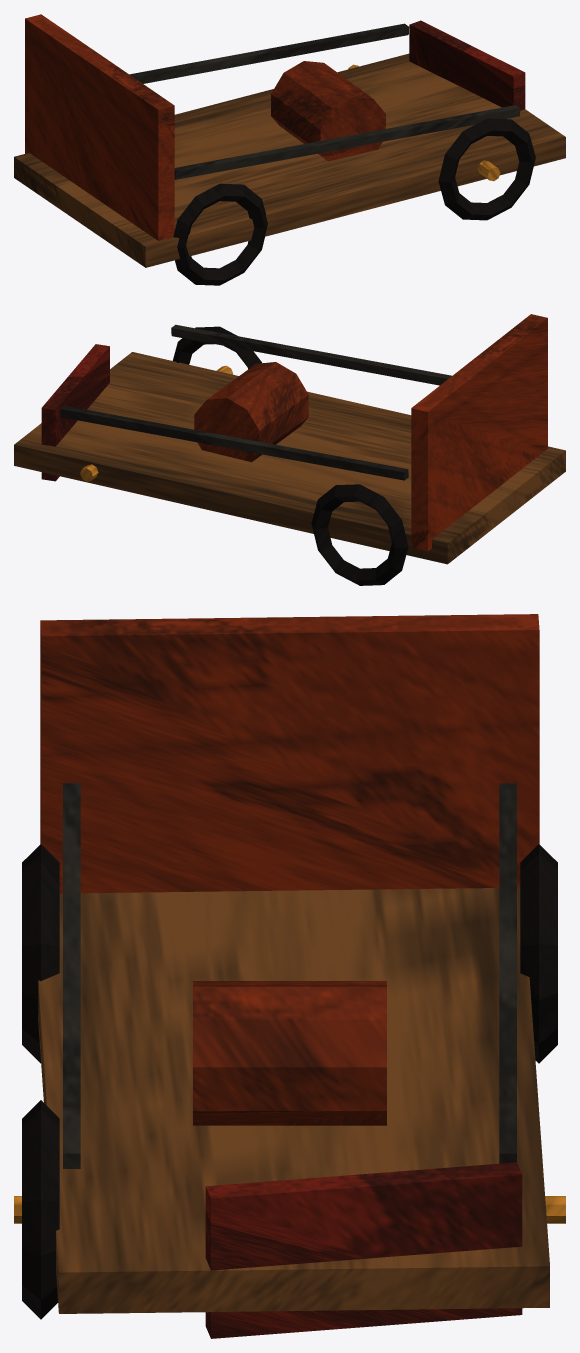
Rendered from hauler-bed-north-b.glb.
3 renders of one model, top to bottom at view 1: azimuth 30°, elevation 25°; view 2: azimuth 150°, elevation 25°; view 3: azimuth 270°, elevation 25°, orthographic. The views are drawn at different scales.
Visible parts, largest first — view 1: hauler-bed-north-b; view 2: hauler-bed-north-b; view 3: hauler-bed-north-b.
Boxes of the visible parts, x1,y1,x2,y2 form: hauler-bed-north-b: [14, 14, 565, 285]; hauler-bed-north-b: [14, 314, 565, 585]; hauler-bed-north-b: [14, 614, 565, 1338].
Size of the model in its own units: 7.31 by 3.07 by 4.1.
Materials: 1 (1 with a texture image).
